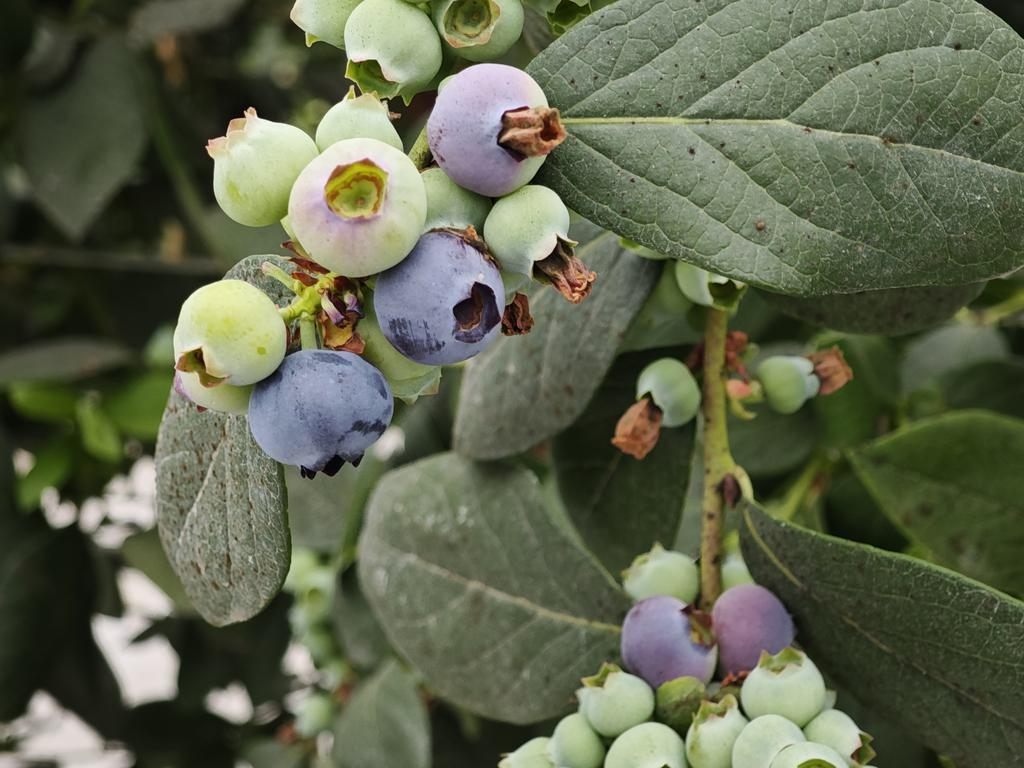RipeBlueBerry: (247, 348, 396, 480), (372, 230, 510, 369)
Semi-RipeBlueBerry: (427, 62, 555, 197), (619, 595, 719, 693), (714, 583, 796, 671)
UnripeBlueBerry: (289, 135, 429, 278)
